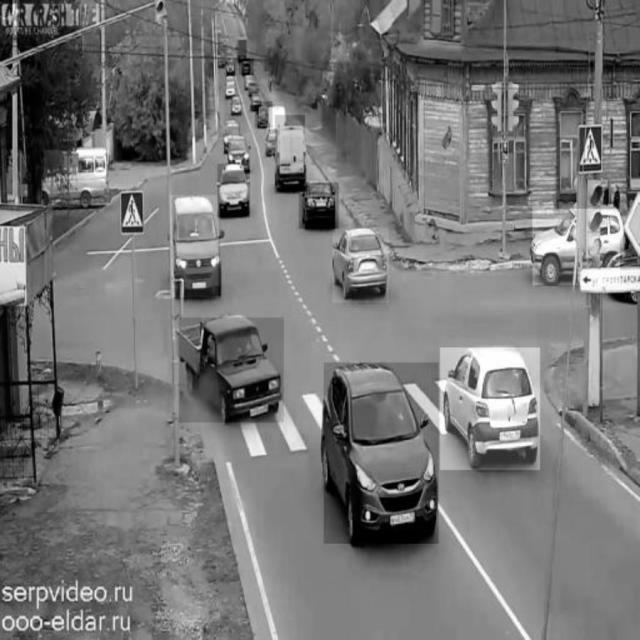vehicle: (324, 363, 438, 543), (440, 348, 540, 470), (179, 318, 283, 422), (532, 209, 620, 285), (170, 195, 218, 297), (333, 228, 389, 302), (44, 151, 108, 206), (275, 116, 305, 194), (299, 183, 339, 229), (218, 164, 250, 218), (229, 133, 251, 170), (256, 102, 273, 128), (228, 94, 245, 114), (239, 59, 254, 75), (225, 58, 237, 74)
